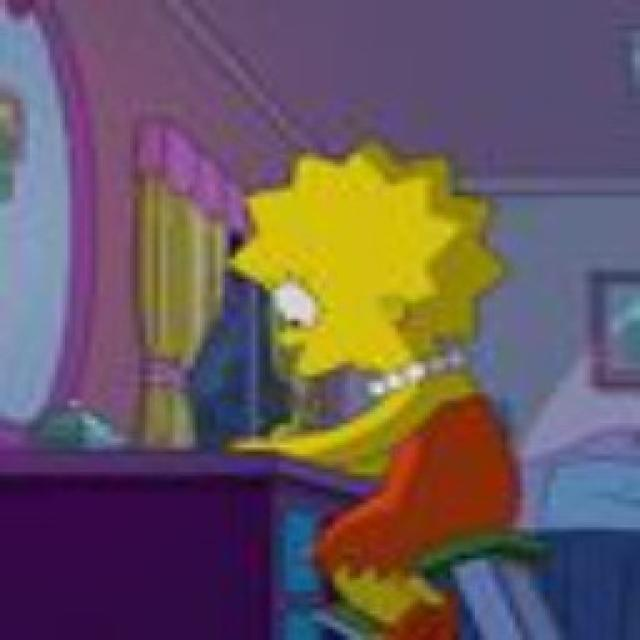Lisa Simpson: (216, 132, 514, 386)
